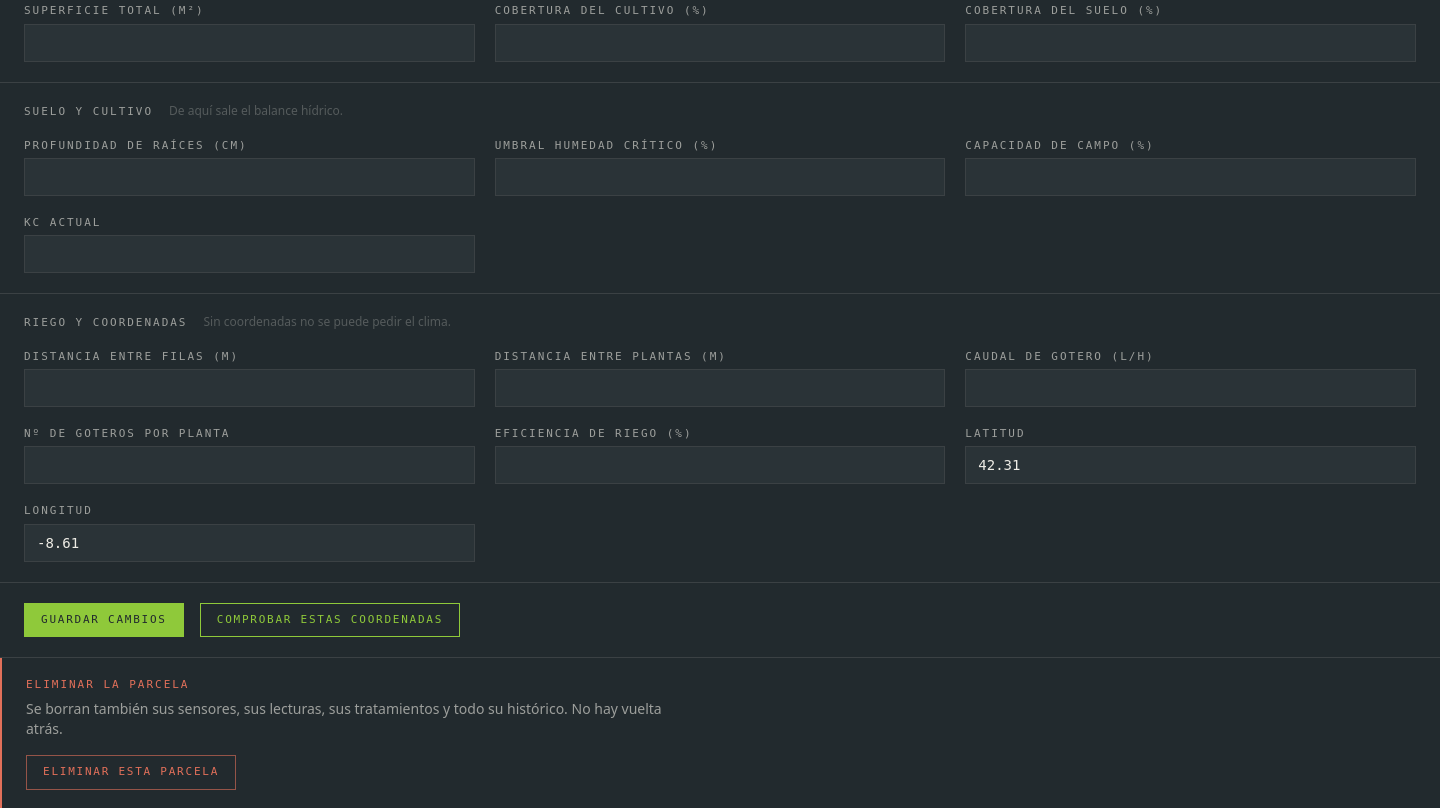
Test: la sonda muestra el resultado de comprobar
(page scrolled)
Step 1. Click the button "Comprobar estas coordenadas" → x=330, y=620, box [200,602,460,637]
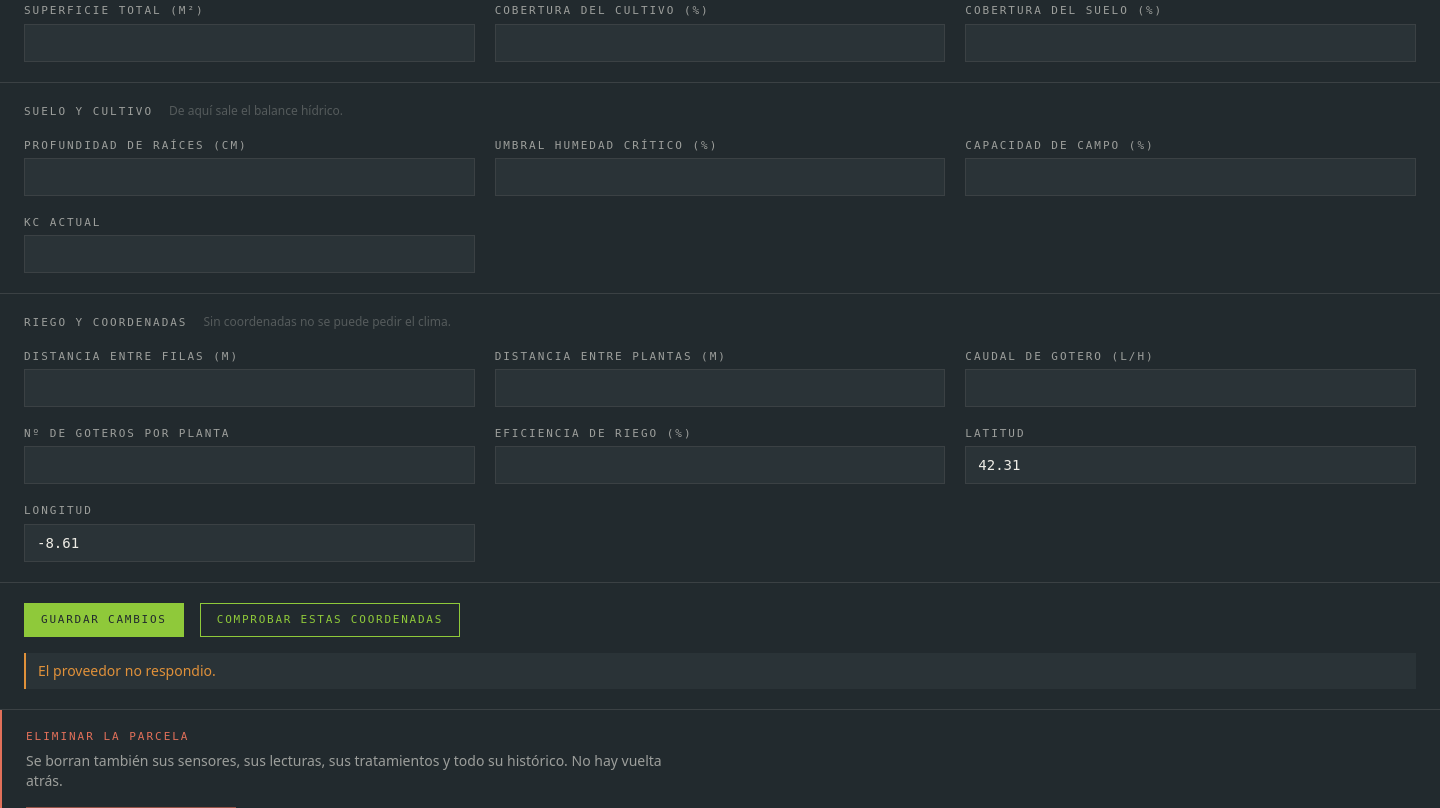
Check: the text "El proveedor no respondio." is shown, box [24,653,1416,689]
